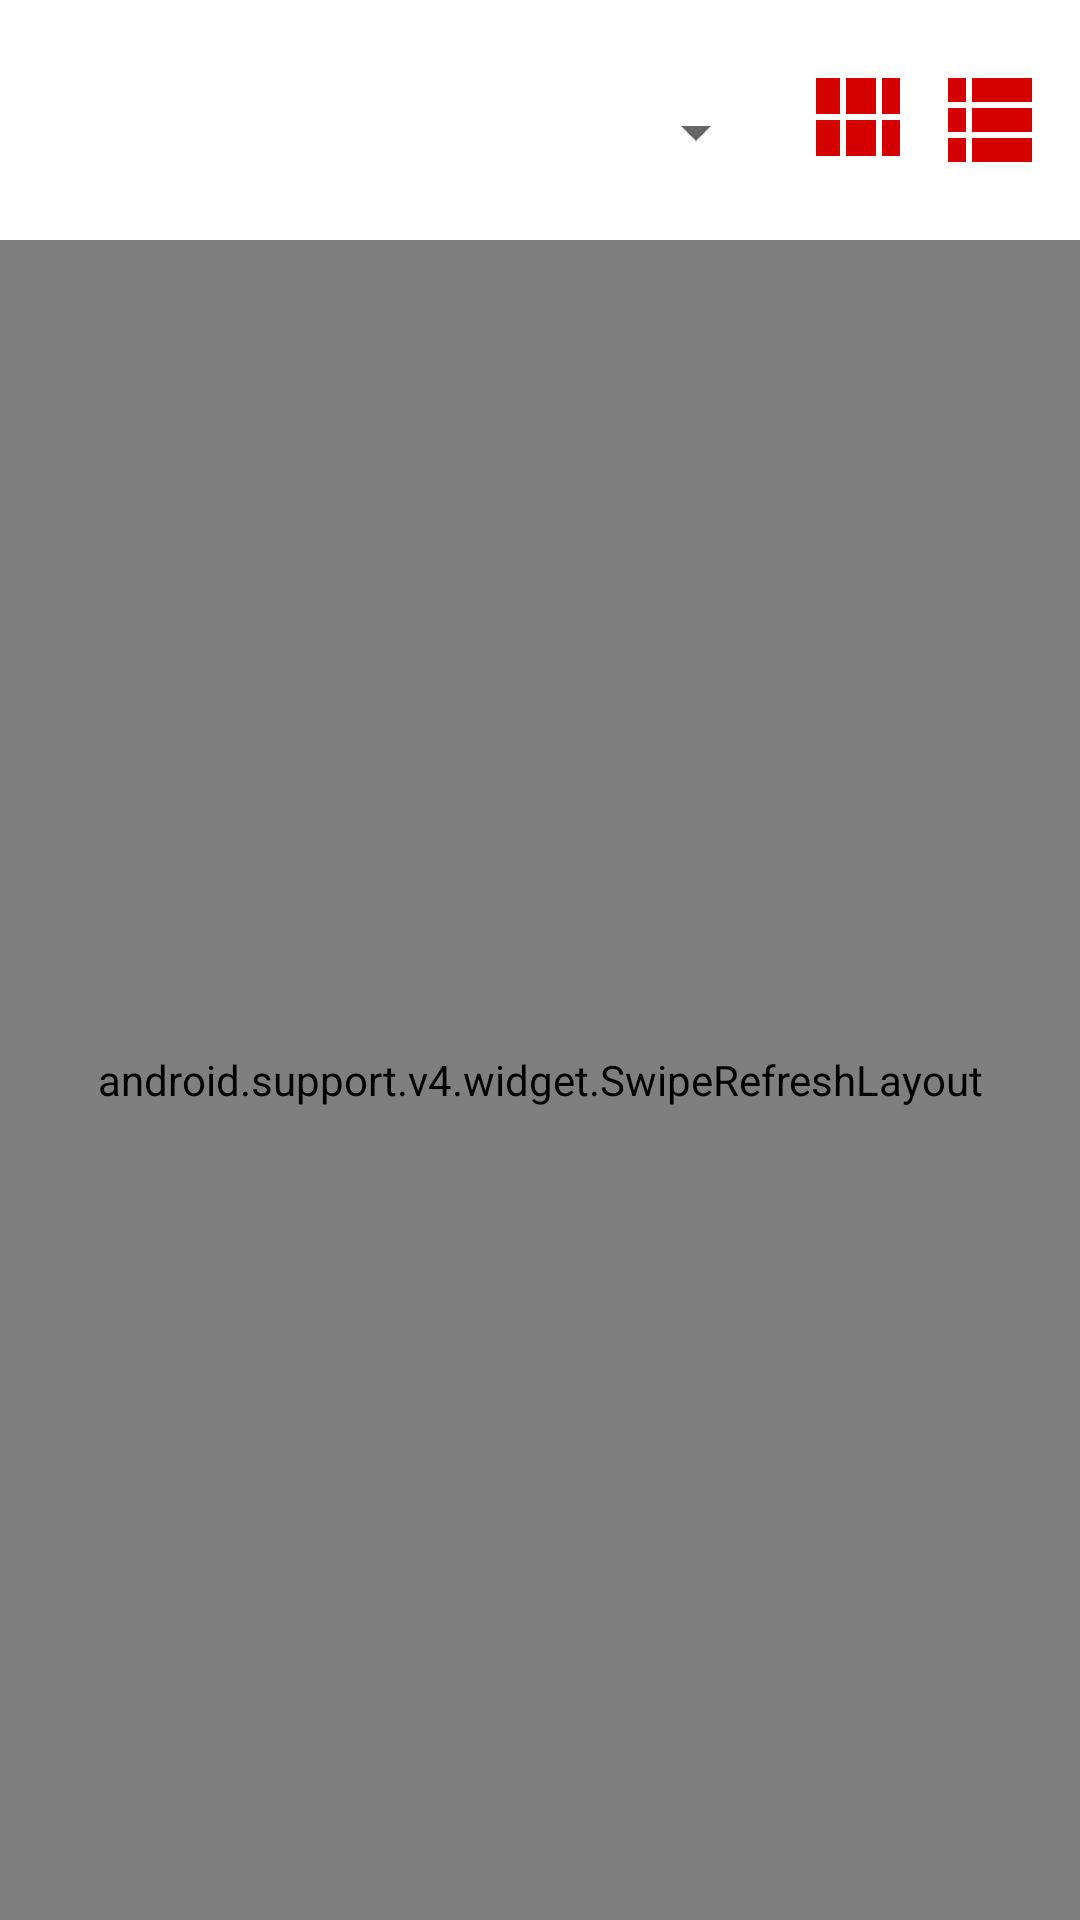

Icon click points for this 1080w x 1920h phone screenshot, format (x,y):
grid category: (858,117)
lin category: (990,120)
